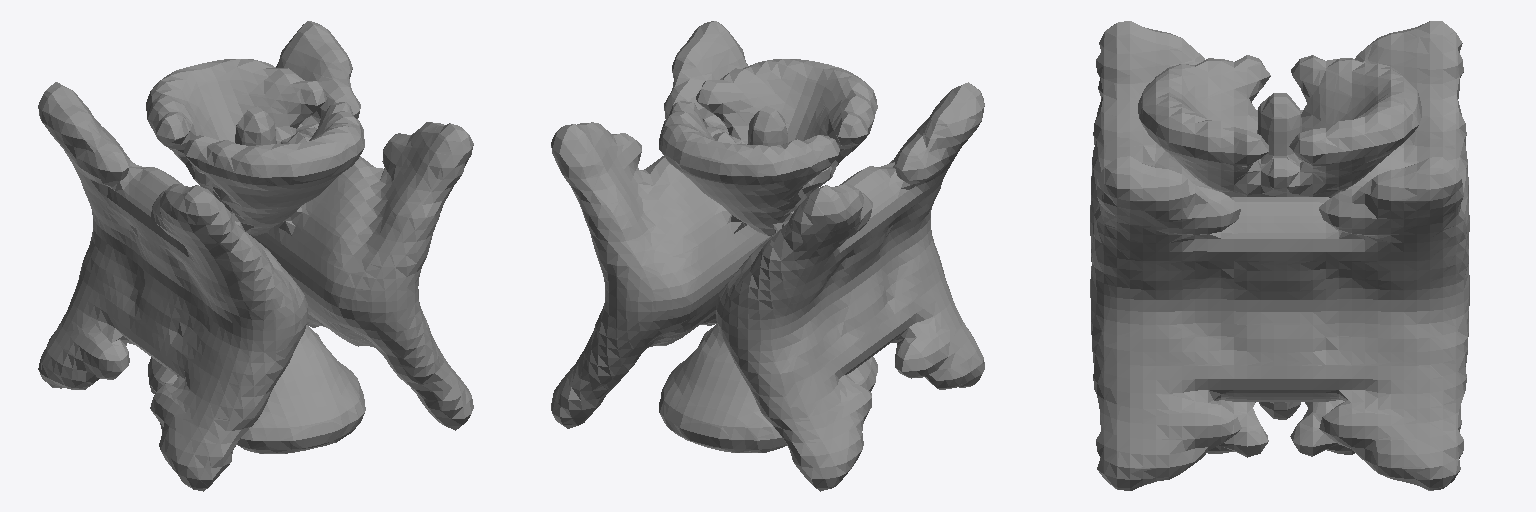
The robot description file, URDF, robot "cube.urdf":
<?xml version="0.0" ?> 
<robot name="cube.urdf"> 
<link name="legobrick"> 
<contact> 
<lateral_friction value="5.0"/> 
<rolling_friction value="0.0"/> 
<contact_cfm value="0.0"/> 
<contact_erp value="1.0"/> 
</contact> 
<inertial> 
<origin rpy="0 0 0" xyz="0.0 0.0 0.0"/> 
<mass value=".01"/> 
<inertia ixx="1" ixy="0" ixz="0" iyy="1" iyz="0" izz="1"/> 
</inertial> 
<visual> 
<origin rpy="1.570796 0 0" xyz="-0.026481786358275118 0.026429421608284875 -0.02639491432879608"/> 
<geometry> 
<mesh filename="T19_0.obj" scale="0.0007001788935192352 0.0007001788935192352 0.0007001788935192352"/> 
</geometry> 
<material name="yellow"> 
<color rgba="0.6 0.6 0.6 1"/> 
</material> 
</visual> 
<collision> 
<origin rpy="1.570796 0 0" xyz="-0.026481786358275118 0.026429421608284875 -0.02639491432879608"/> 
<geometry> 
<mesh filename="T19_0.obj" scale="0.0007001788935192352 0.0007001788935192352 0.0007001788935192352"/> 
</geometry> 
</collision> 
</link> 
</robot>

--- Render facts (derived) ---
The picture shows the robot from 3 angles, left to right: view 1: azimuth 30°, elevation 25°; view 2: azimuth 150°, elevation 25°; view 3: azimuth 270°, elevation 25°; orthographic projection.
Robot: cube.urdf — 1 links, 0 joints (none); root link legobrick; default pose: all joints at 0.
Visible links, largest first — view 1: legobrick; view 2: legobrick; view 3: legobrick.
Link boxes in pixels (bbox=[...]): legobrick: bbox=[38, 21, 473, 491]; legobrick: bbox=[551, 21, 984, 491]; legobrick: bbox=[1090, 21, 1469, 490].
Size in the robot's own frame: 0.056 by 0.0571 by 0.056 metres.
1 mesh visuals loaded from 1 distinct referenced files (1 OBJ).
